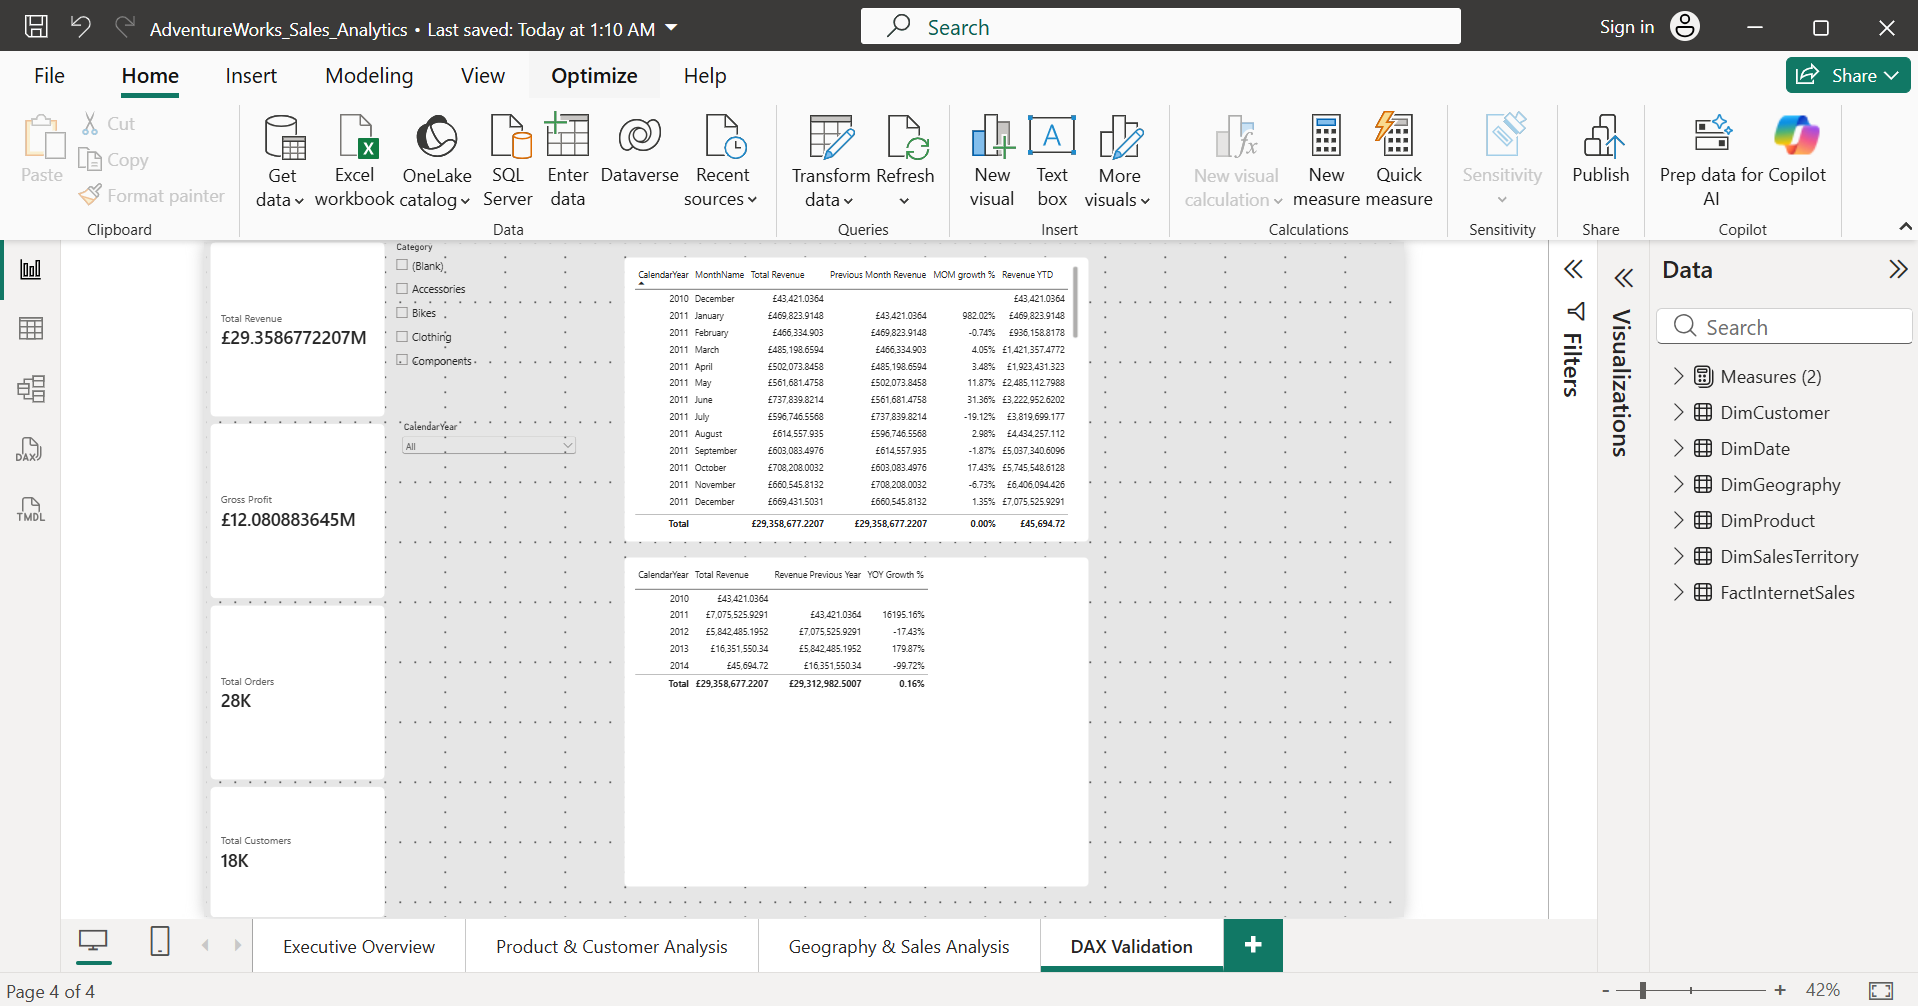

The page's visual inventory and layout, read from the dashboard file:
{"tool":"powerbi","page":{"name":"DAX Validation","canvas":[1920,1080],"ordinal":3},"visuals":[{"type":"cardVisual","fields":{"Data":["Measures (2).Total Revenue"]},"box":[10,0,280,280],"z":0},{"type":"cardVisual","fields":{"Data":["Measures (2).Gross Profit"]},"box":[10,290,280,280],"z":1},{"type":"cardVisual","fields":{"Data":["Measures (2).Total Orders"]},"box":[10,580,280,280],"z":2},{"type":"cardVisual","fields":{"Data":["Measures (2).Total Custoemrs"]},"box":[10,870,280,210],"z":3},{"type":"slicer","fields":{"Values":["DimProduct.Category"]},"box":[300,0,280,280],"z":4},{"type":"slicer","fields":{"Values":["DimDate.CalendarYear"]},"box":[312,288,288,96],"z":5},{"type":"tableEx","fields":{"Values":["DimDate.CalendarYear","DimDate.MonthName","Measures (2).Total Revenue","Measures (2).Previous Month Revenue","Measures (2).MOM growth %","Measures (2).Revenue YTD"]},"box":[672,24,744,456],"z":6},{"type":"tableEx","fields":{"Values":["DimDate.CalendarYear","Measures (2).Total Revenue","Measures (2).Revenue Previous Year","Measures (2).YOY Growth %"]},"box":[672,504,744,528],"z":7}]}

Visuals, with their boxes on the page's 1920x1080 design canvas (x1, y1, x2, y2). These are canvas units, not pixel positions in the 1918x1006 screenshot, which may show the page scaled, cropped or inside an application window:
cardVisual - Measures (2).Total Revenue: detection(10, 0, 290, 280)
cardVisual - Measures (2).Gross Profit: detection(10, 290, 290, 570)
cardVisual - Measures (2).Total Orders: detection(10, 580, 290, 860)
cardVisual - Measures (2).Total Custoemrs: detection(10, 870, 290, 1080)
slicer - DimProduct.Category: detection(300, 0, 580, 280)
slicer - DimDate.CalendarYear: detection(312, 288, 600, 384)
tableEx - DimDate.CalendarYear x DimDate.MonthName: detection(672, 24, 1416, 480)
tableEx - DimDate.CalendarYear x Measures (2).Total Revenue: detection(672, 504, 1416, 1032)
